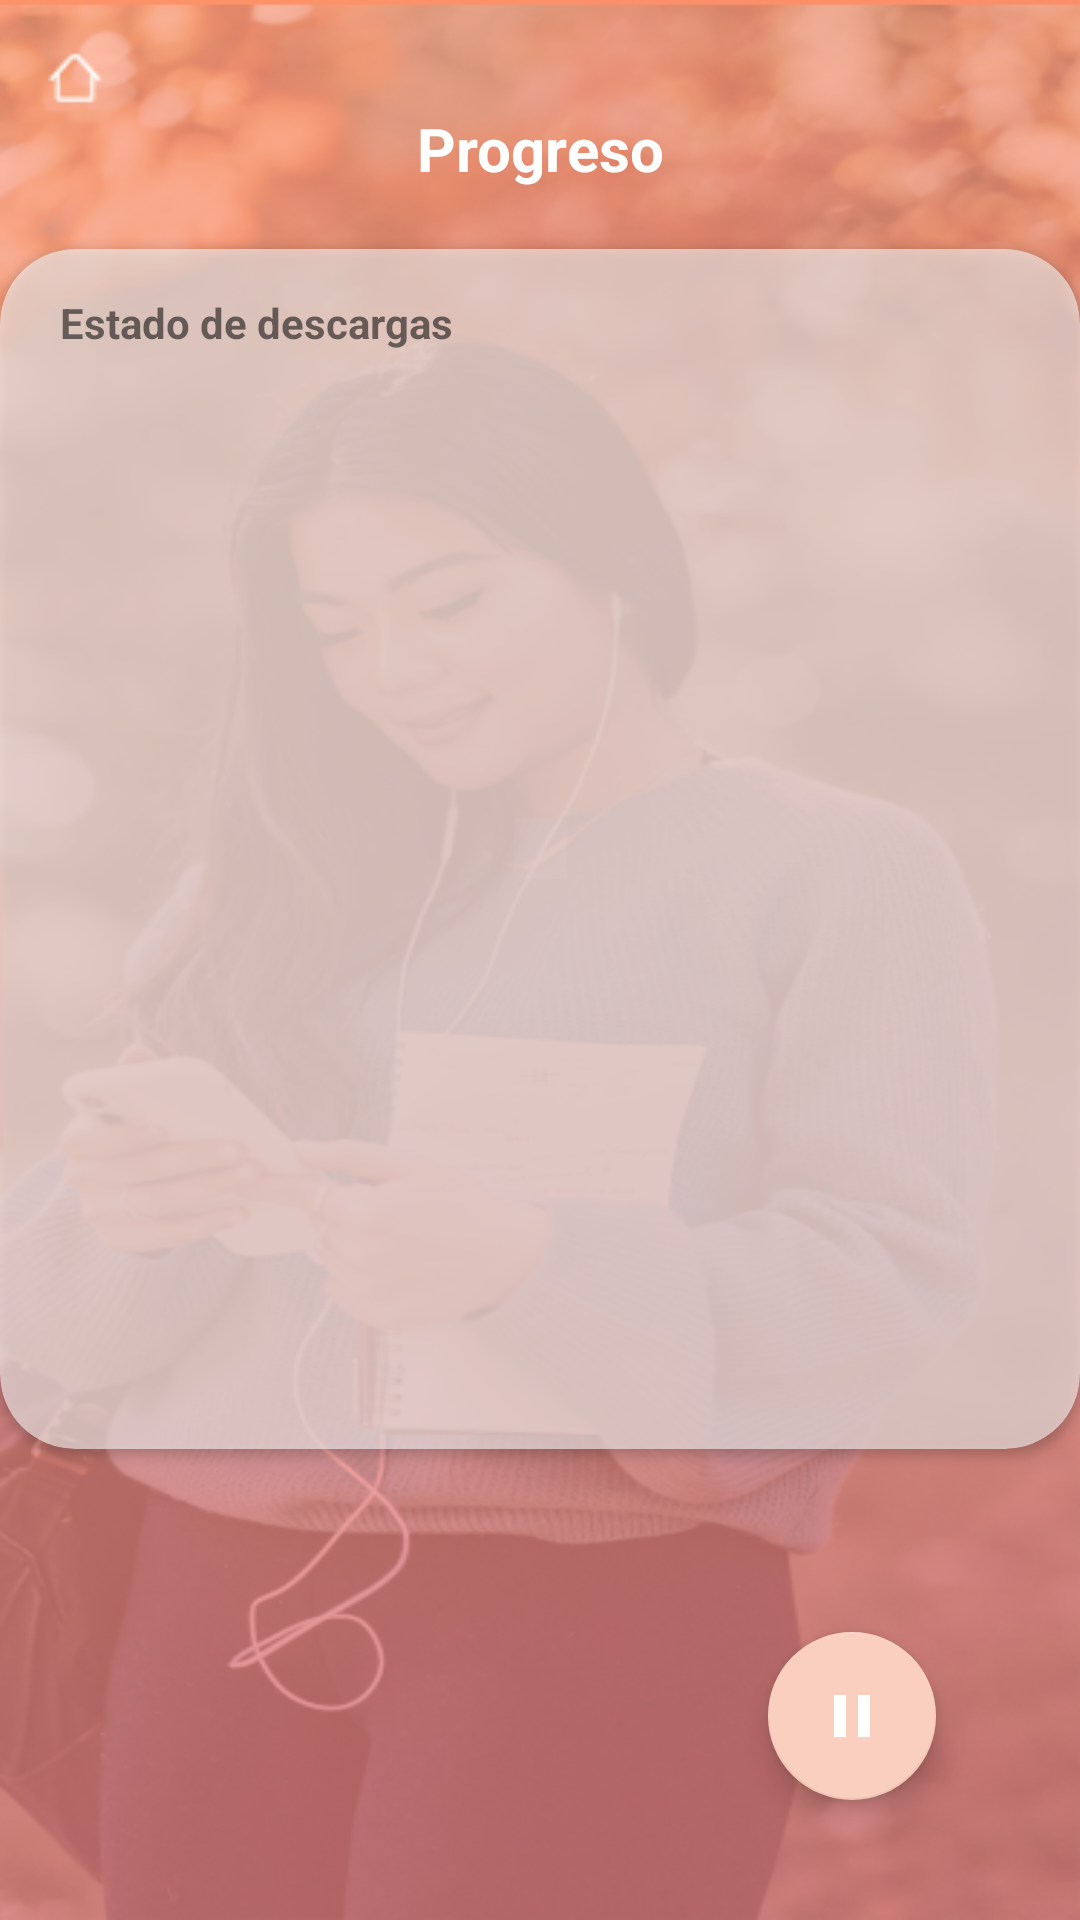

Screen size 1080*1920. Icon name, then its box in pixels as detection(x1, y1, x2, y2):
home: detection(0, 0, 153, 156)
pause: detection(768, 1632, 936, 1800)
